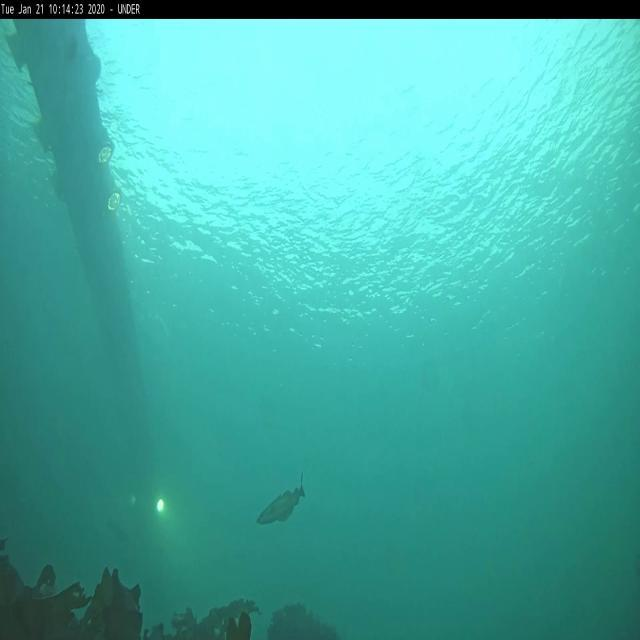fish: (255, 473, 305, 525)
